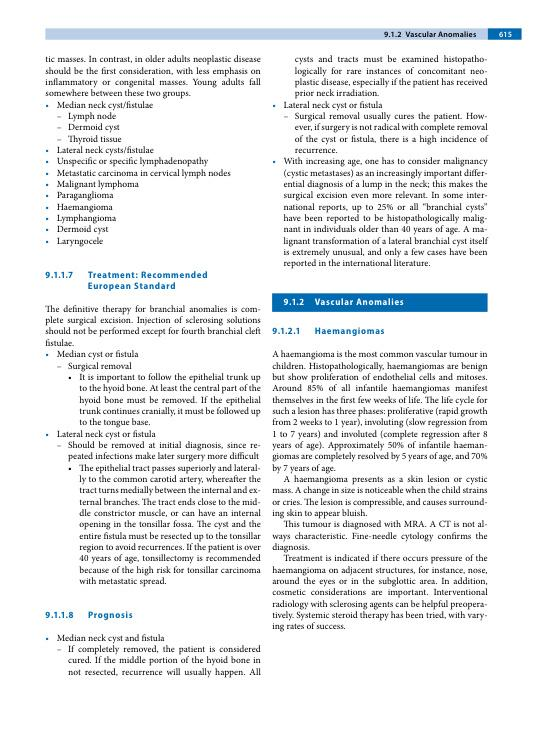list: (44, 349, 262, 587), (269, 53, 489, 271), (45, 100, 232, 249), (44, 632, 262, 679)
section-heading: (314, 297, 404, 307)
sub-section-heading: (86, 270, 209, 292), (314, 325, 385, 337), (87, 610, 134, 621)
text: (270, 348, 489, 633), (44, 53, 262, 100), (44, 303, 262, 348)
